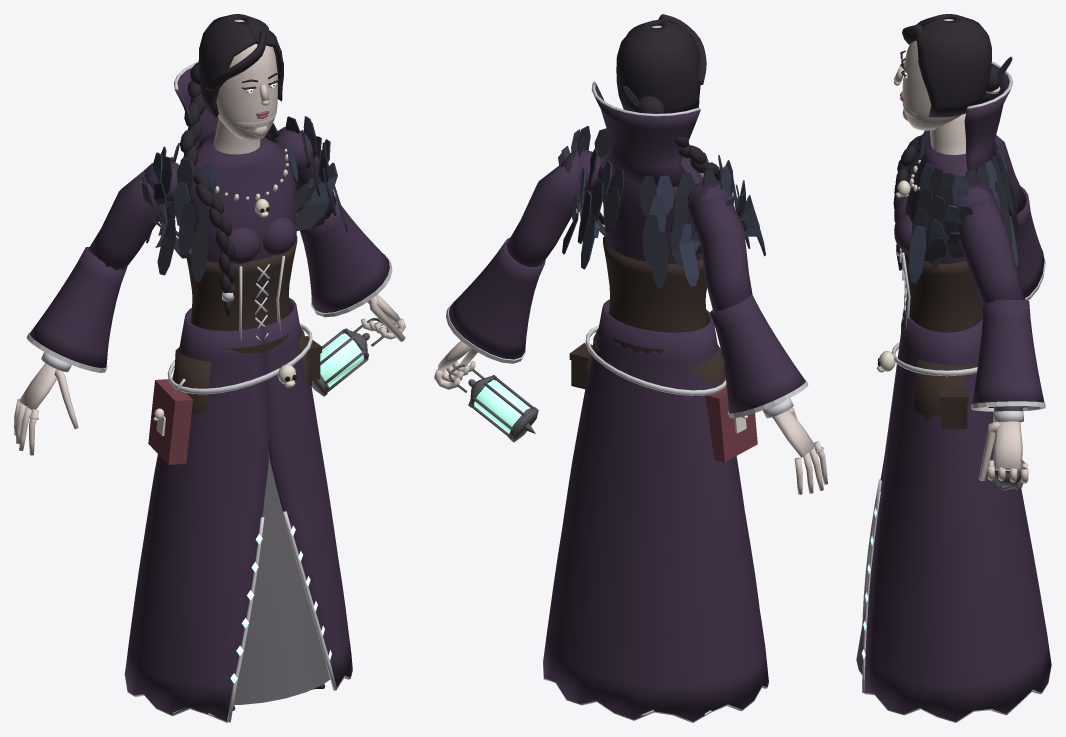
The picture shows the model from 3 angles, left to right: view 1: azimuth 30°, elevation 25°; view 2: azimuth 150°, elevation 25°; view 3: azimuth 270°, elevation 25°; orthographic projection.
Visible parts, largest first — view 1: thornwild__OW_Char_MaelisDray_MESH; view 2: thornwild__OW_Char_MaelisDray_MESH; view 3: thornwild__OW_Char_MaelisDray_MESH.
Boxes of the visible parts, x1=… form: thornwild__OW_Char_MaelisDray_MESH: x1=14, y1=14, x2=405, y2=722; thornwild__OW_Char_MaelisDray_MESH: x1=434, y1=14, x2=827, y2=722; thornwild__OW_Char_MaelisDray_MESH: x1=856, y1=14, x2=1051, y2=722.
Bounding box in the file's own units: 1.06 × 1.76 × 0.4732.
